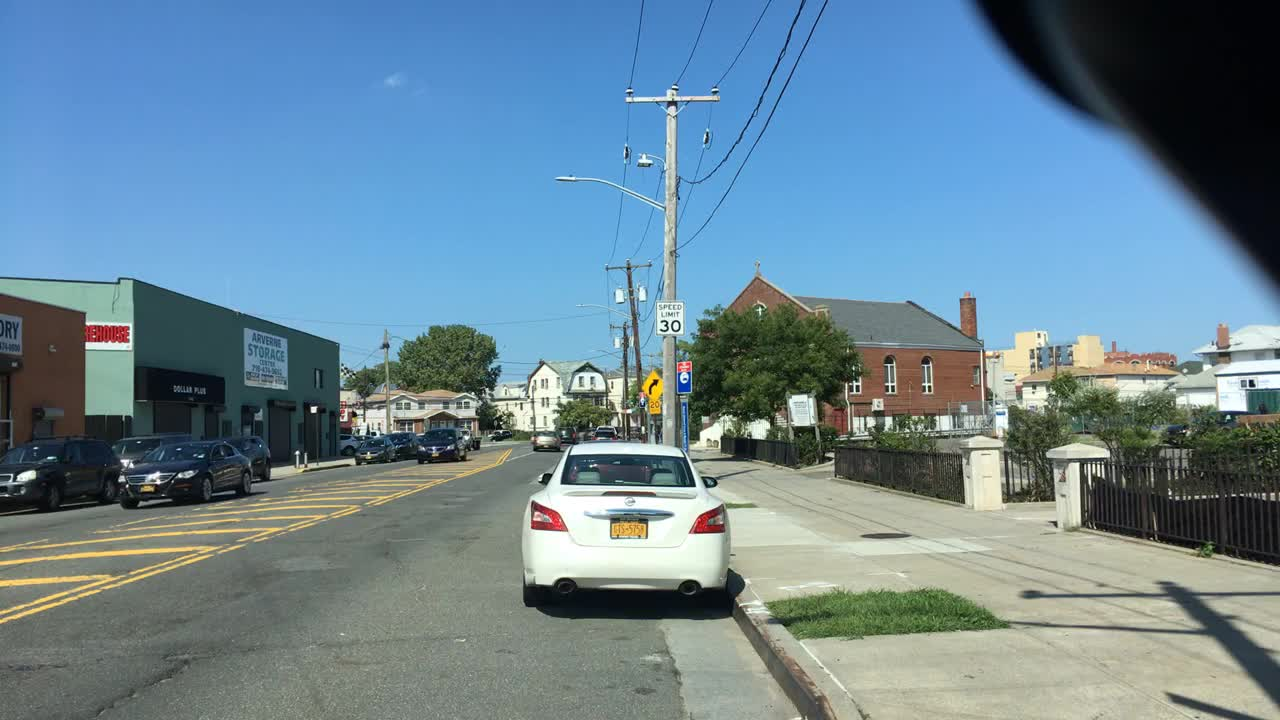car: (519, 441, 729, 610), (0, 436, 121, 515), (117, 442, 253, 511), (110, 435, 202, 484), (1157, 409, 1258, 448), (214, 436, 272, 481), (418, 428, 470, 464), (355, 436, 395, 466), (383, 430, 420, 458), (533, 429, 561, 455), (337, 432, 360, 456), (592, 427, 620, 443), (558, 424, 578, 441), (489, 427, 512, 441), (355, 434, 371, 448), (581, 427, 595, 443), (596, 423, 617, 432), (362, 430, 380, 439)
traffic light: (351, 416, 358, 424)
traffic sign: (791, 394, 817, 428), (655, 300, 680, 334), (641, 368, 662, 399), (677, 362, 693, 394), (647, 399, 660, 415), (871, 395, 883, 407), (679, 350, 692, 359), (959, 402, 969, 412)
truck: (461, 425, 484, 450)
